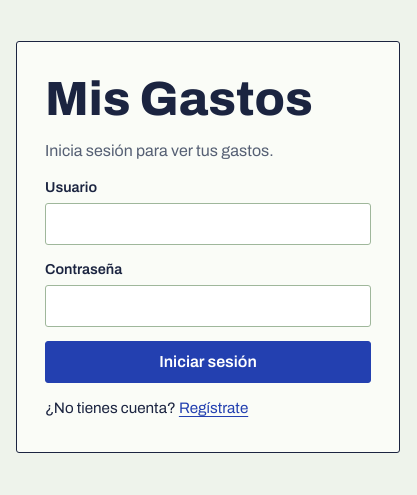
LoginPage › asks for the credentials before calling the API
Click the button "Iniciar sesión". click: click(208, 362)
box: [45, 341, 371, 383]
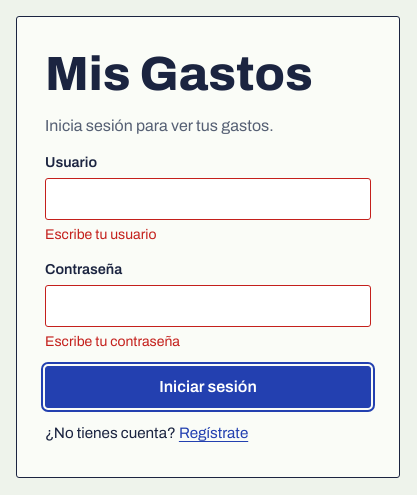
expect the text "Escribe tu usuario" is shown: met, box [45, 227, 156, 242]
expect the text "Escribe tu contraseña" is shown: met, box [45, 334, 180, 349]
